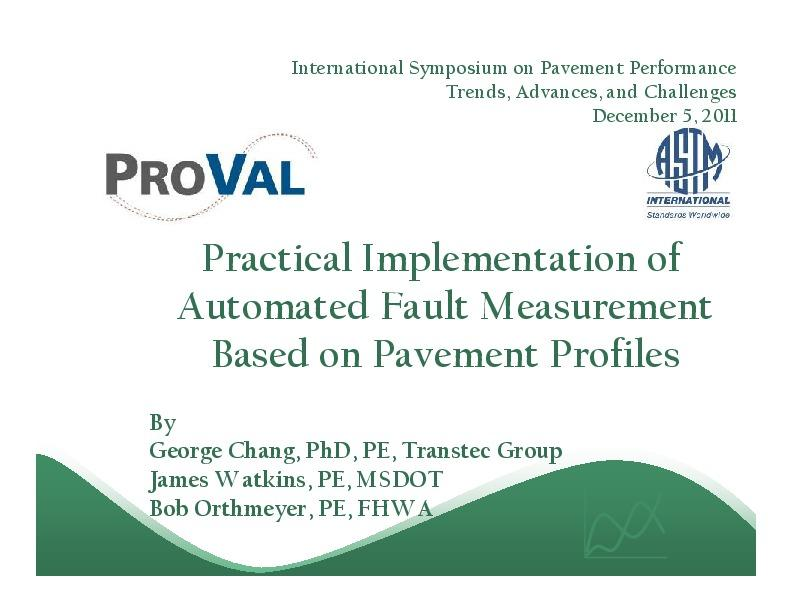title: (184, 225, 741, 397)
